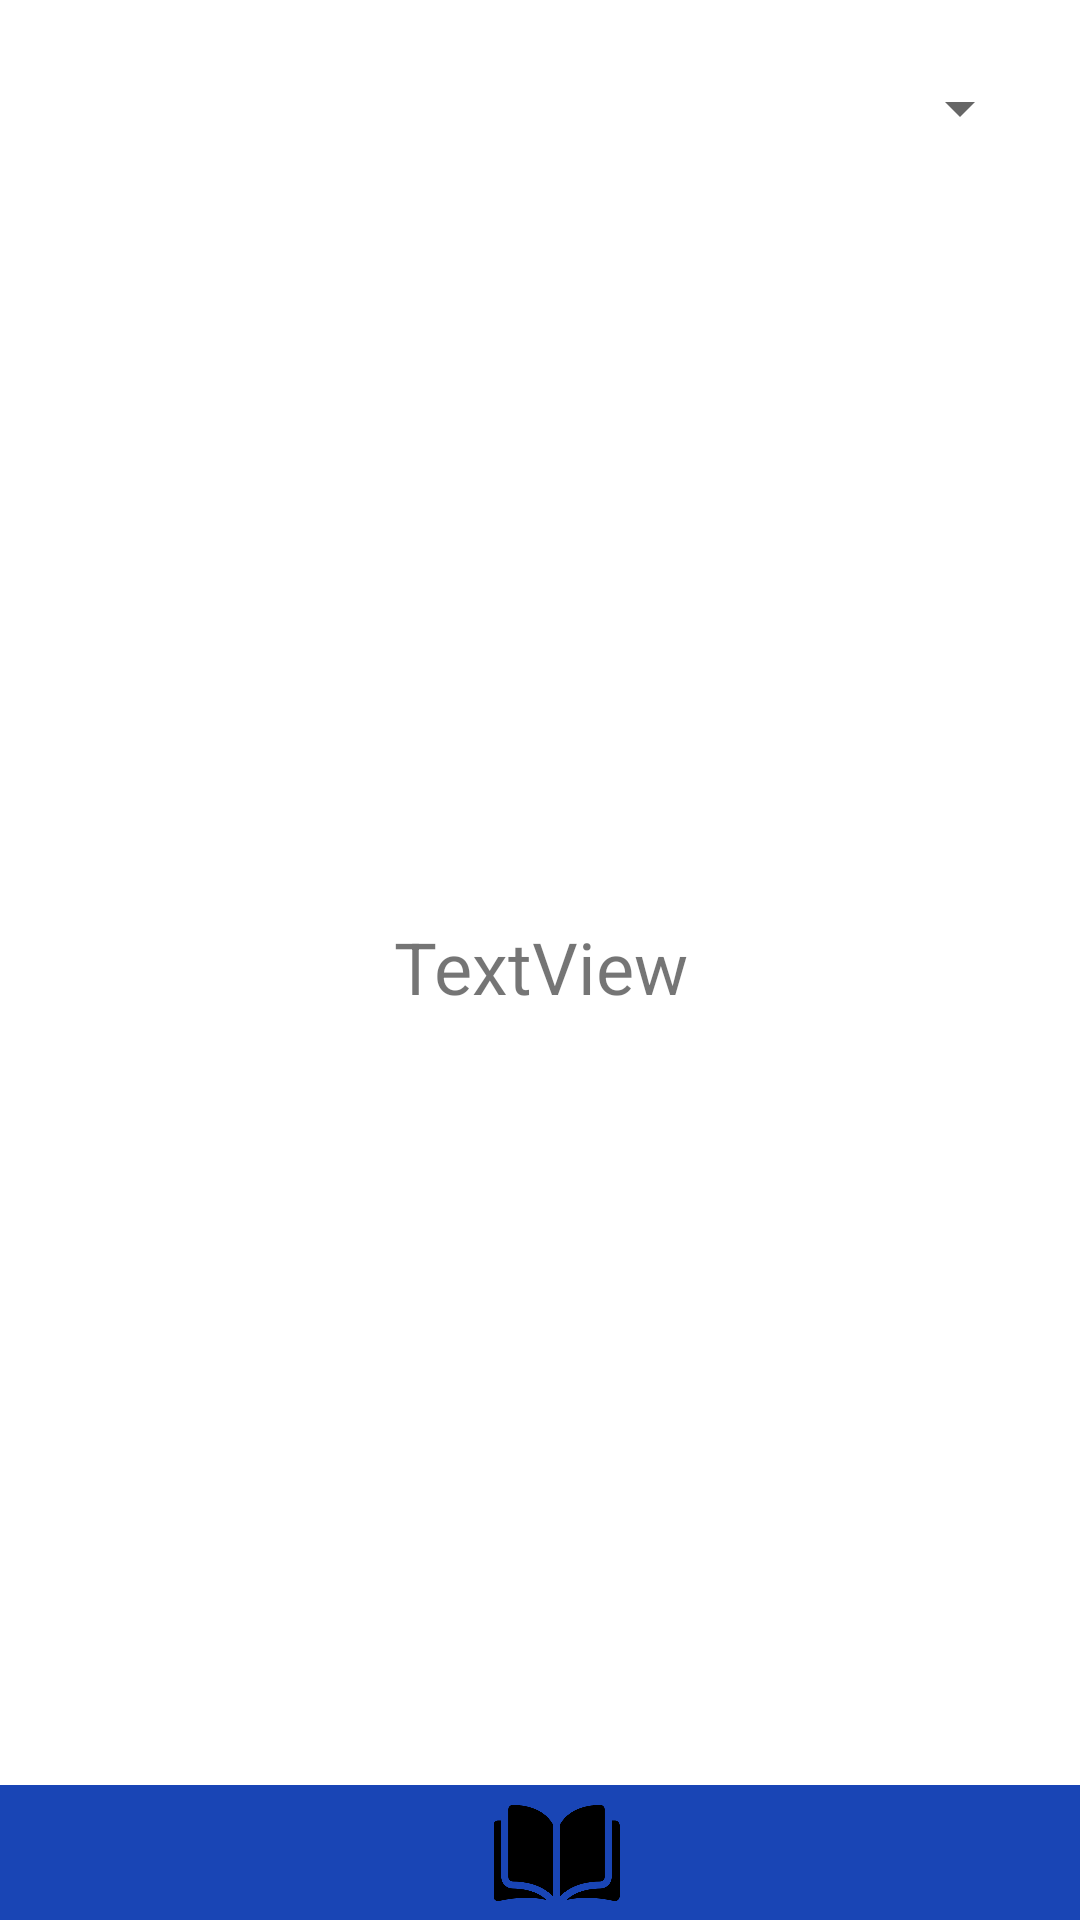

Icons on this 1080×1920 Android screen, each with the point to tap as point (x, y):
book: point (557, 1853)
